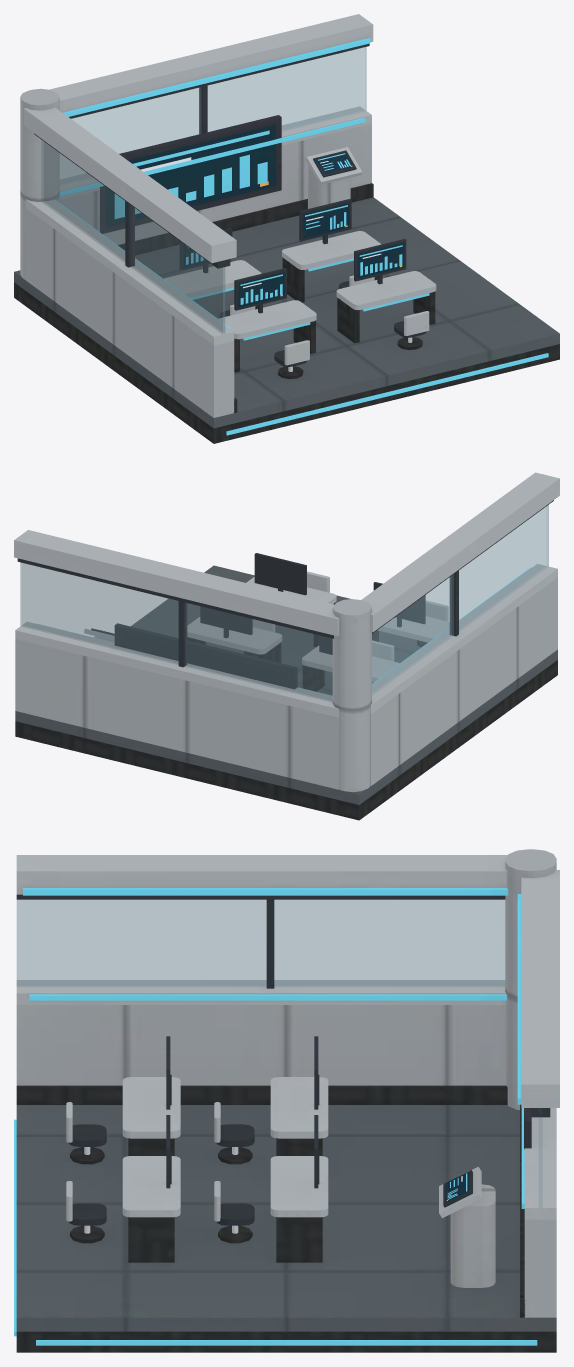
File: enterprise_school.glb
3 renders of one model, top to bottom at view 1: azimuth 30°, elevation 25°; view 2: azimuth 150°, elevation 25°; view 3: azimuth 270°, elevation 25°, orthographic. The views are drawn at different scales.
Parts seen in each view (by area): view 1: te_enterprise_school; view 2: te_enterprise_school; view 3: te_enterprise_school.
Part boxes in pixels (box(x1,y1,x2,y2)): te_enterprise_school: box(14, 14, 559, 443); te_enterprise_school: box(14, 472, 559, 820); te_enterprise_school: box(14, 849, 559, 1352).
Bounding box in the file's own units: 0.849 × 0.472 × 0.849.
2 materials, 1 textured.
